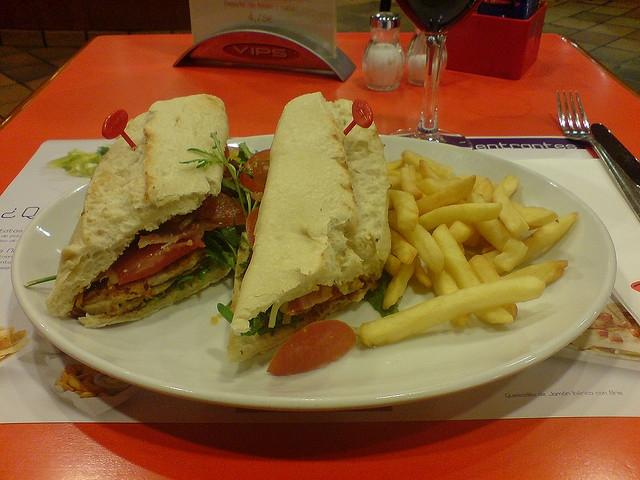lettuce: (46, 146, 111, 178), (200, 226, 240, 275), (362, 276, 400, 317), (217, 300, 234, 324), (253, 310, 269, 330)
tomato: (268, 320, 356, 376), (192, 192, 249, 226), (239, 148, 270, 194), (246, 206, 260, 248), (223, 144, 230, 172)
